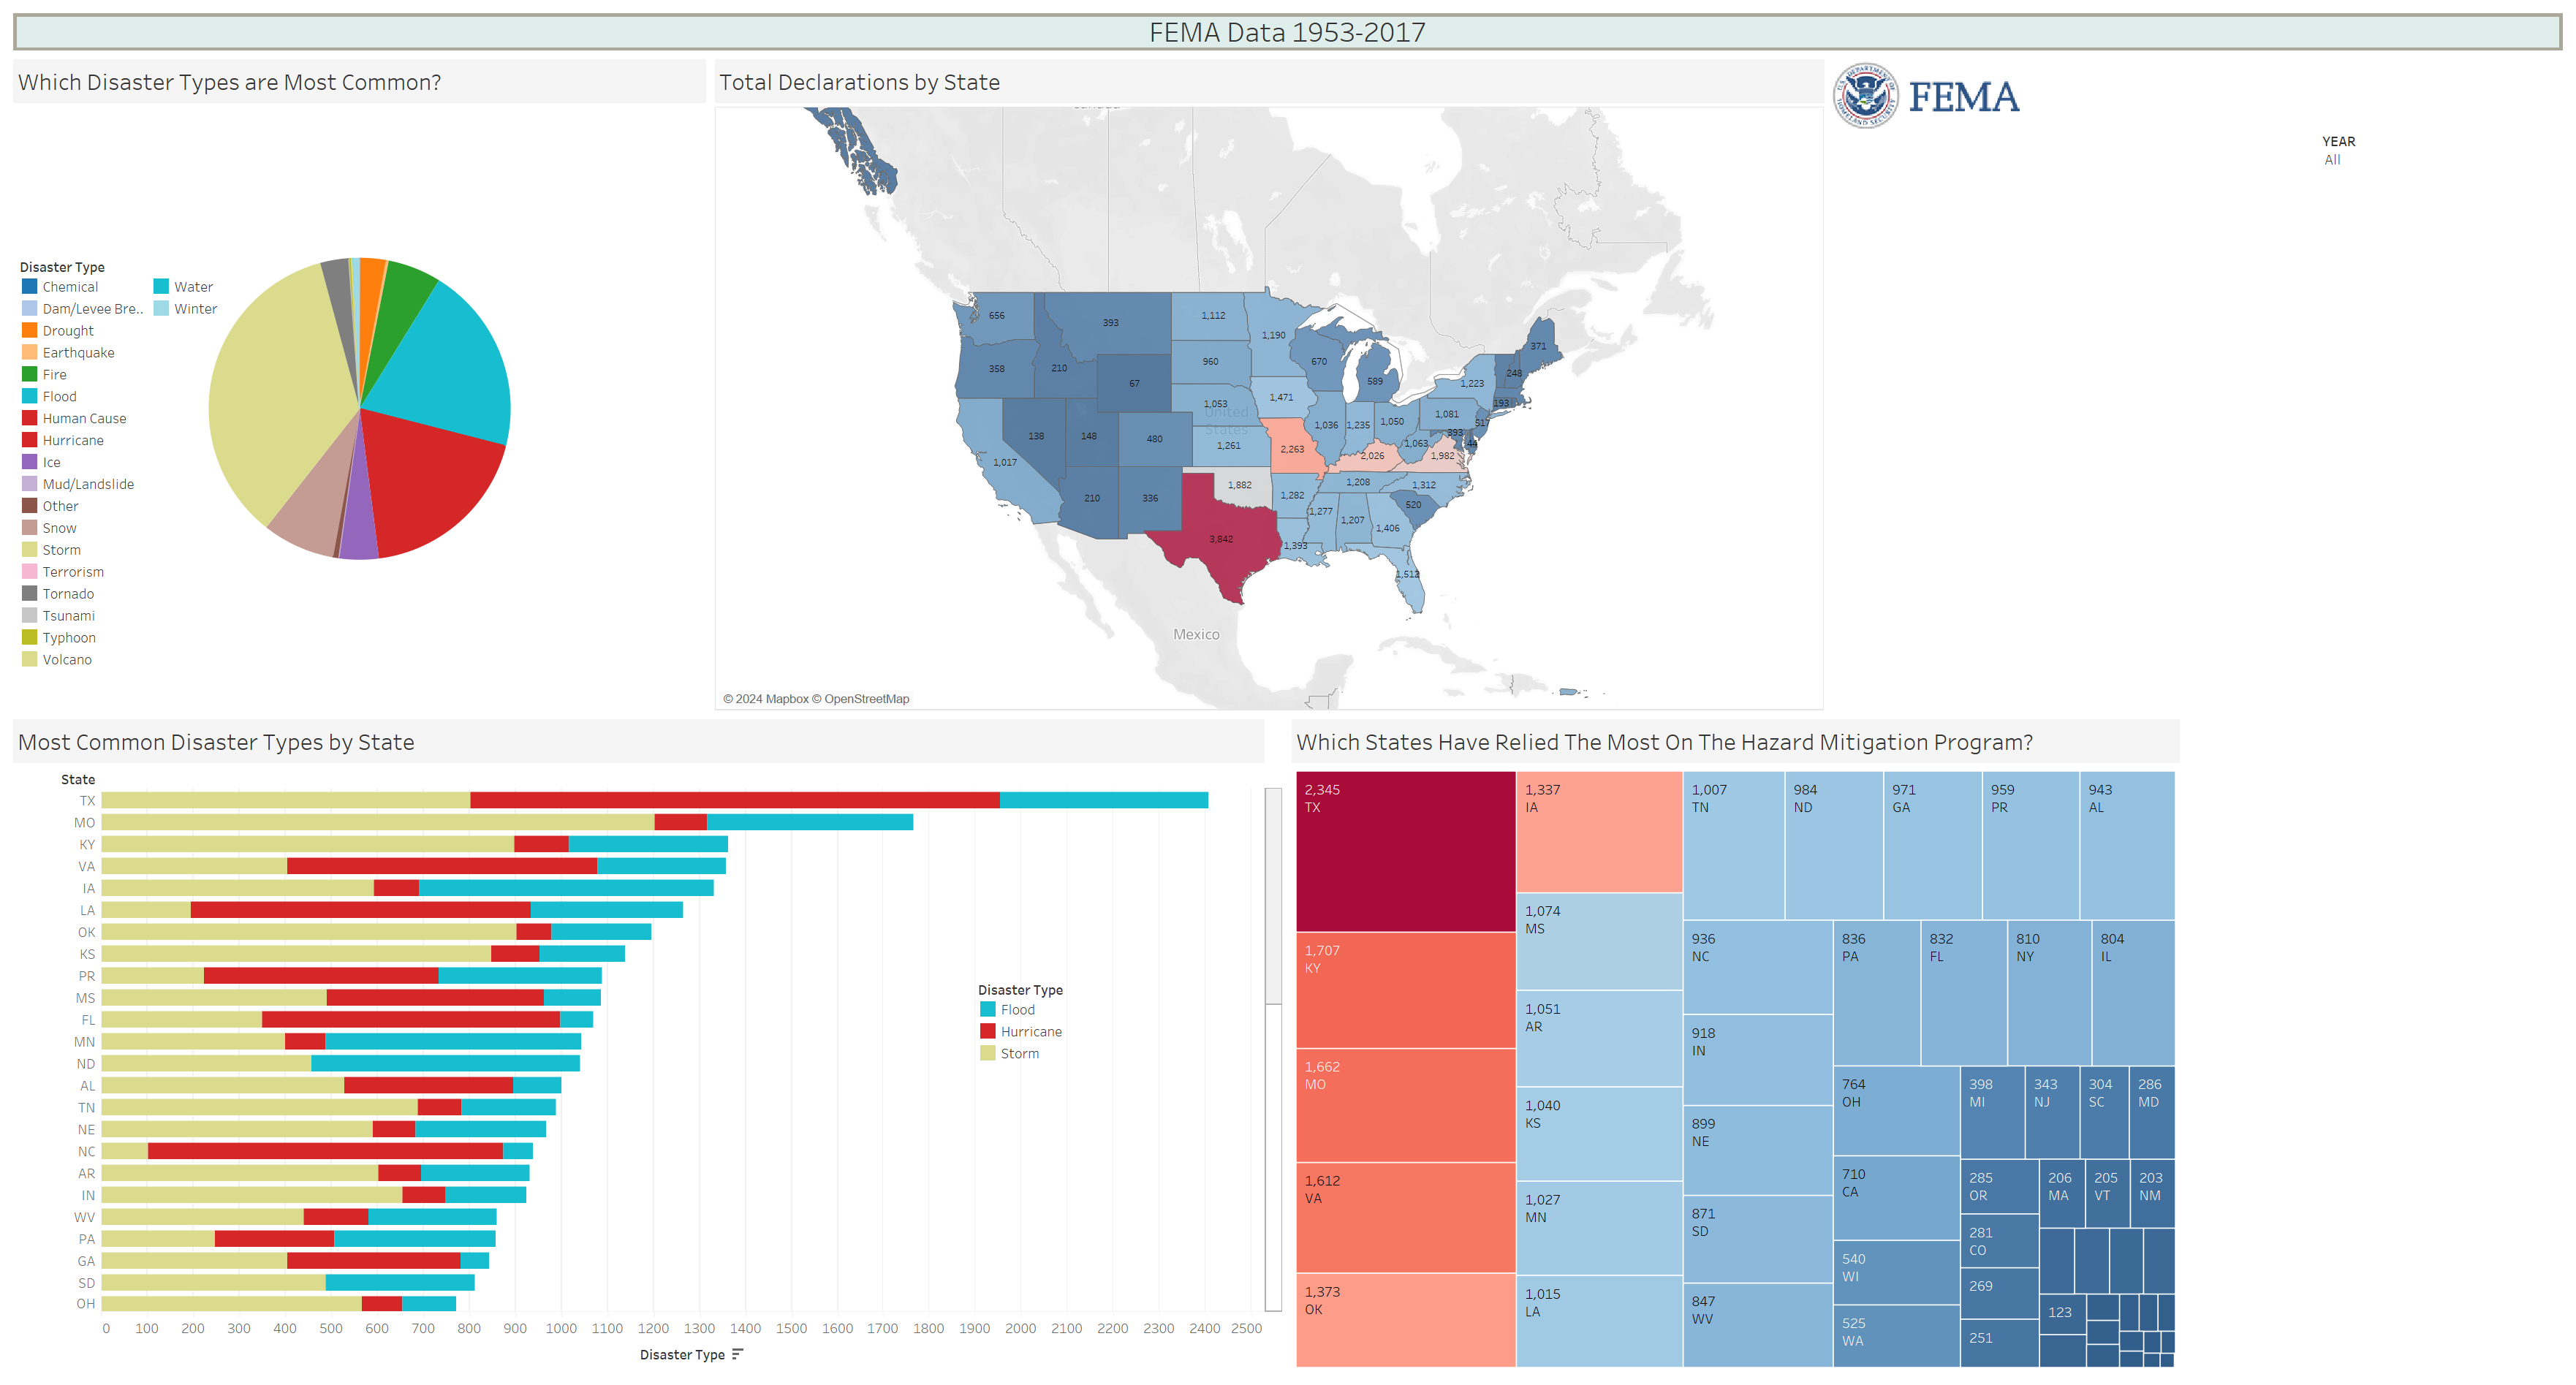

The dashboard page shown, as its layout file describes it:
{"tool":"tableau","page":{"name":"Dashboard","canvas":[1000,1000],"units":"permille","ordinal":0},"visuals":[{"type":"title","box":[4.8,9.9,990.4,72]},{"type":"image","param":"C:/Users/lidal/AppData/Local/Temp/TableauTemp/0xm97250d0uubx129i7ql1x7ak6l/Sheet","box":[12.7,21.1,289.3,48.4]},{"type":"filter","title":"Which Disaster Types are Most Common?","param":"[federated.1ck2lte0vo1wk8127fz1f1416cpo].[yr:Declaration Date:ok]","box":[901.8,79.4,89.8,74.4]},{"type":"worksheet","title":"Which Disaster Types are Most Common?","mark":"Pie","box":[4.8,81.9,385.8,454.1]},{"type":"worksheet","title":"Total Declarations by State","mark":"Automatic","box":[390.6,81.9,604.6,454.1]},{"type":"legend","title":"Which Disaster Types are Most Common?","param":"[federated.1ck2lte0vo1wk8127fz1f1416cpo].[none:Disaster Type:nk]","box":[7.2,184.9,147.7,306.4]},{"type":"worksheet","title":"Most Common Disaster Types by State","mark":"Bar","rows":["State"],"cols":["Disaster Type"],"box":[4.8,536,495.1,454.1]},{"type":"worksheet","title":"Which States Have Relied The Most On The Hazard Mitigation Program?","mark":"Automatic","box":[500,536,495.2,454.1]},{"type":"legend","title":"Most Common Disaster Types by State","param":"[federated.1ck2lte0vo1wk8127fz1f1416cpo].[none:Disaster Type:nk]","box":[379.2,706,84.1,125.3]}]}

Visuals, with their boxes on the dashboard's canvas, which has no fixed pixel size, in thousandths of its width and height (x1, y1, x2, y2). These are canvas units, not pixel positions in the 2576x1385 screenshot, which may show the page scaled, cropped or inside an application window:
title: bbox(5, 10, 995, 82)
image: bbox(13, 21, 302, 70)
"Which Disaster Types are Most Common?" filter: bbox(902, 79, 992, 154)
"Which Disaster Types are Most Common?" worksheet (Pie marks): bbox(5, 82, 391, 536)
"Total Declarations by State" worksheet: bbox(391, 82, 995, 536)
"Which Disaster Types are Most Common?" legend: bbox(7, 185, 155, 491)
"Most Common Disaster Types by State" worksheet (Bar marks): bbox(5, 536, 500, 990)
"Which States Have Relied The Most On The Hazard Mitigation Program?" worksheet: bbox(500, 536, 995, 990)
"Most Common Disaster Types by State" legend: bbox(379, 706, 463, 831)
